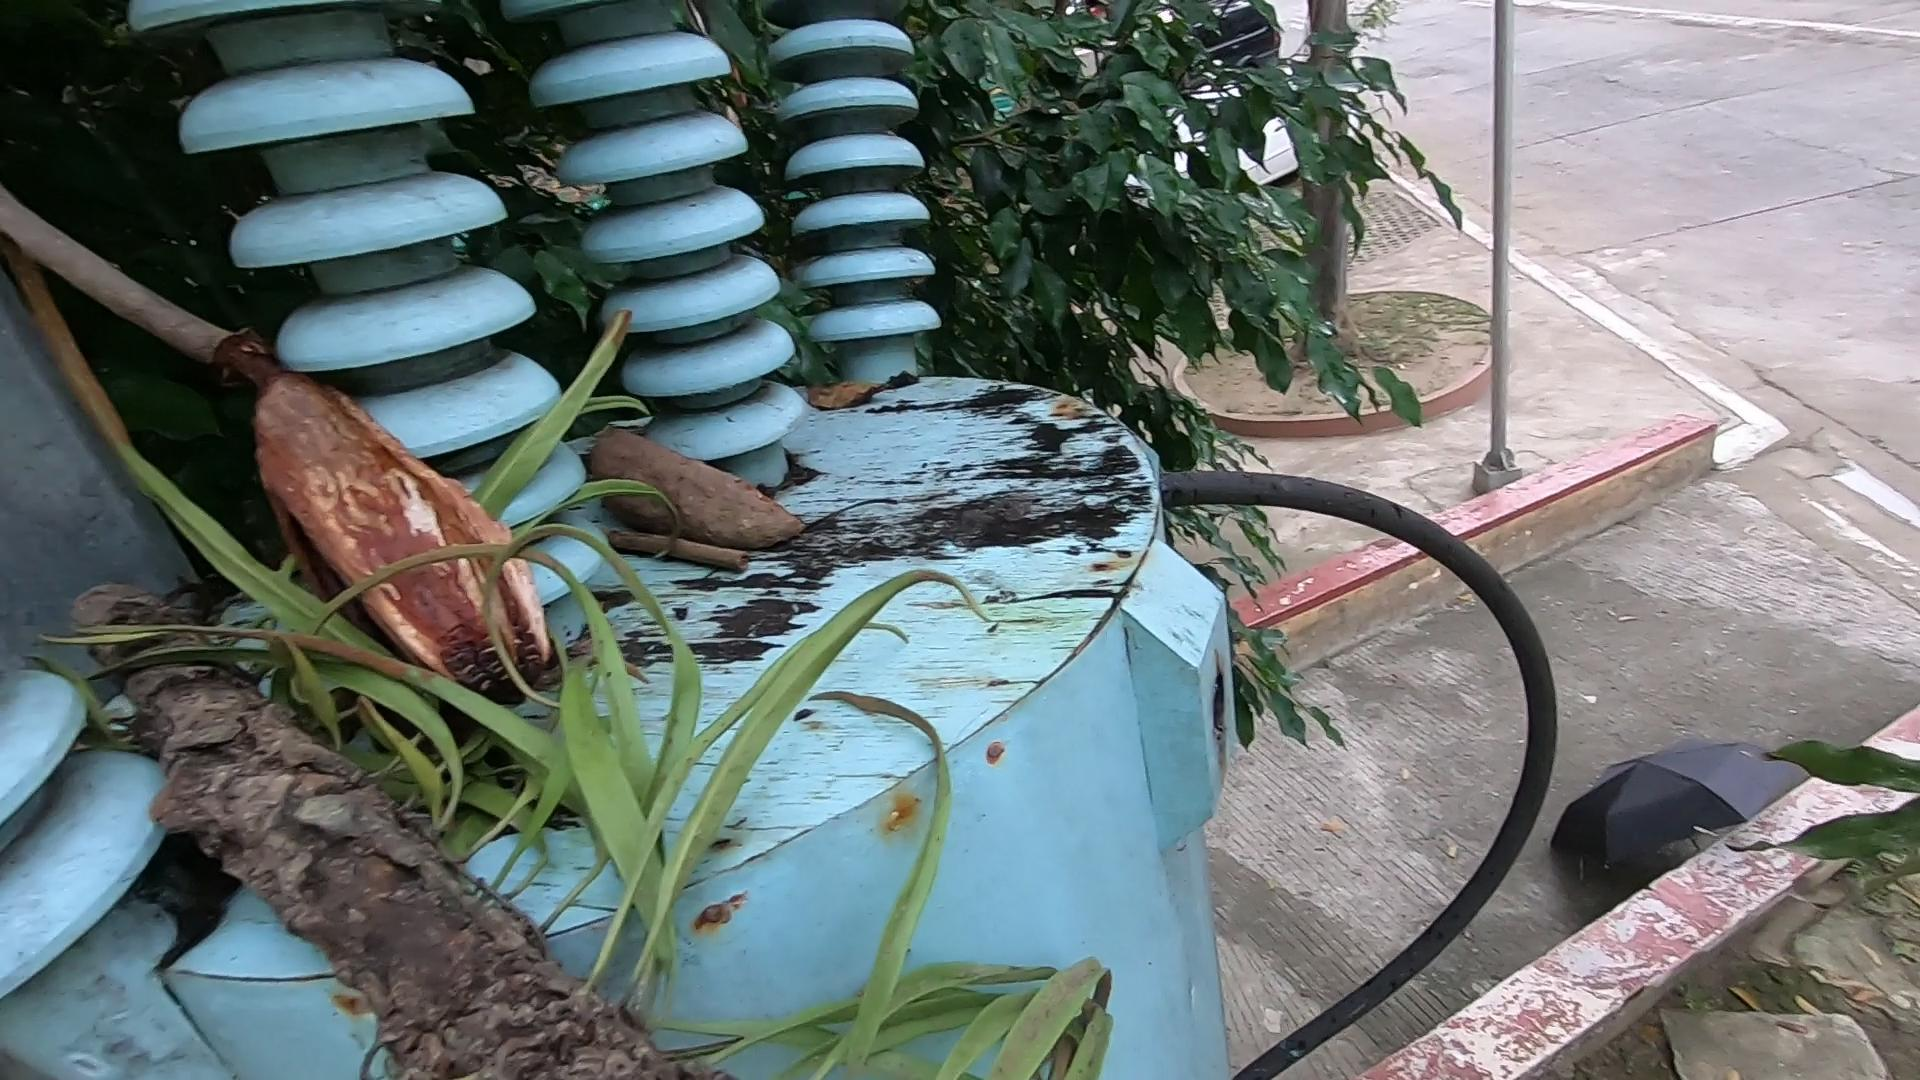branch with leaves: (18, 560, 1139, 1040)
leaf: (787, 361, 942, 425)
mahogany fruit: (262, 405, 551, 649), (578, 421, 835, 563)
tree branch: (11, 169, 243, 440), (585, 505, 756, 588)
